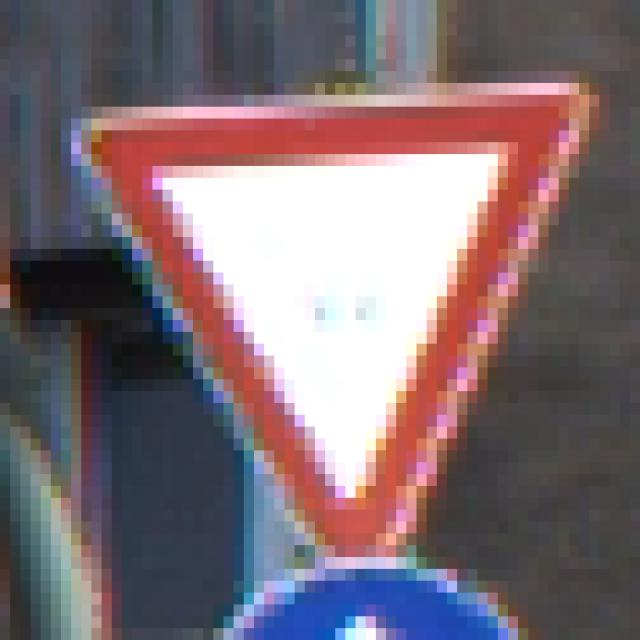Give Way: (62, 60, 590, 582)
